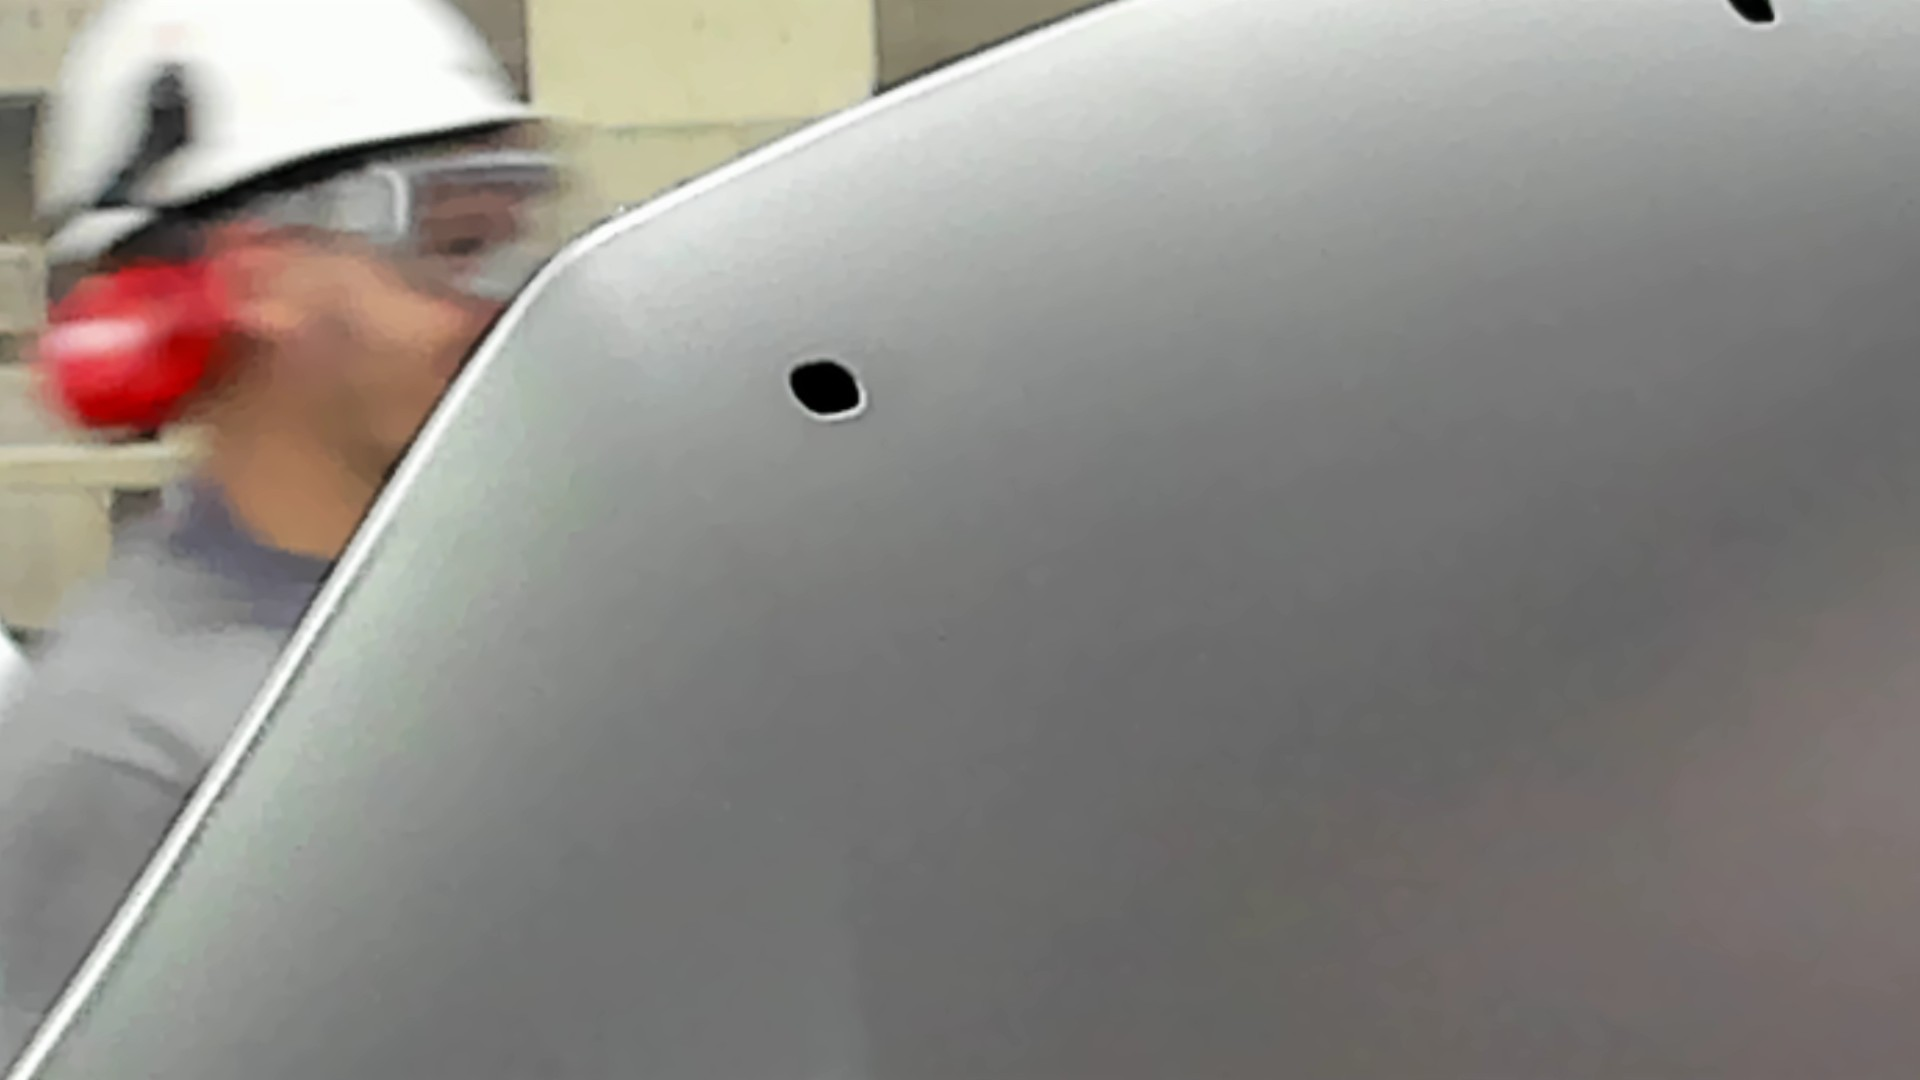amorfo: (781, 353, 874, 422), (1725, 1, 1783, 28)
capo: (965, 103, 1920, 1080)
